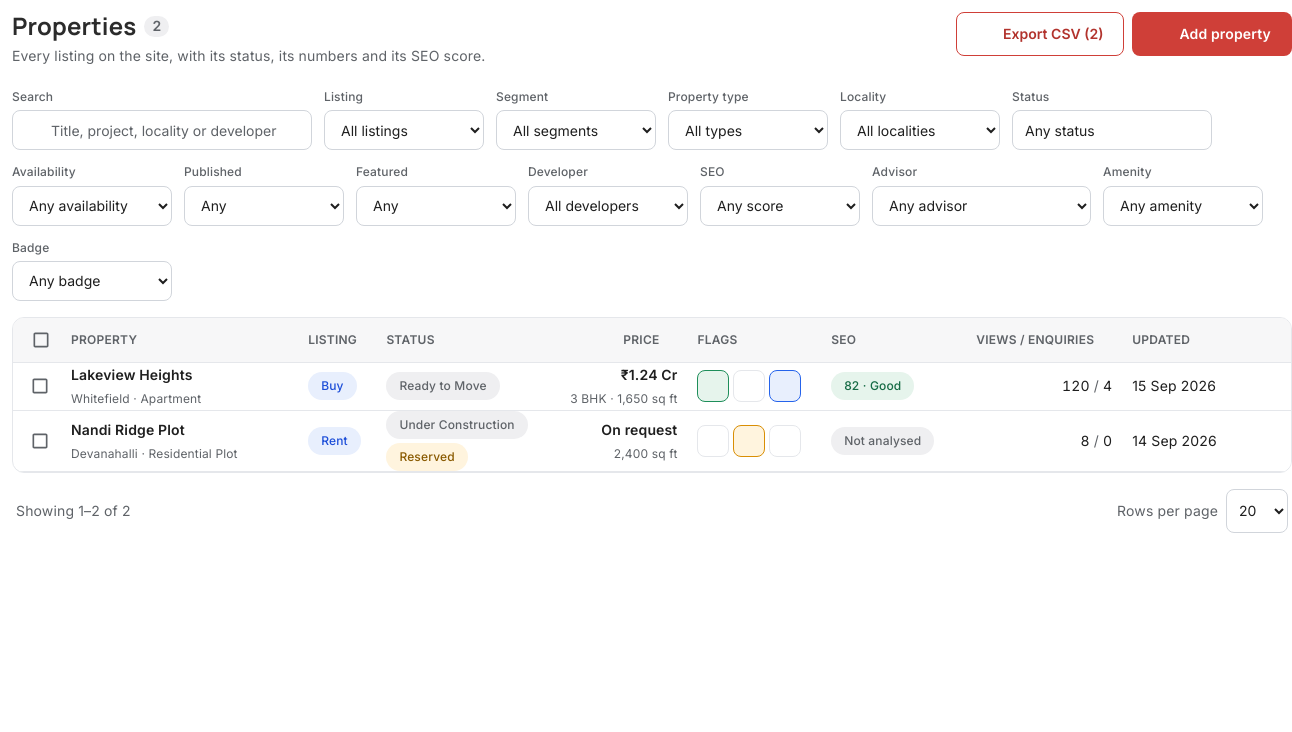
Test: PropertiesListPage › the flag toggles › patch the record they belong to, and keep the row where it is (QA-62)
Check: the link "Lakeview Heights" is shown, box x1=71 y1=366 x2=192 y2=383
Click the button named "Featured — Lakeview Heights".
click(750, 386)  # box x1=734 y1=370 x2=766 y2=402
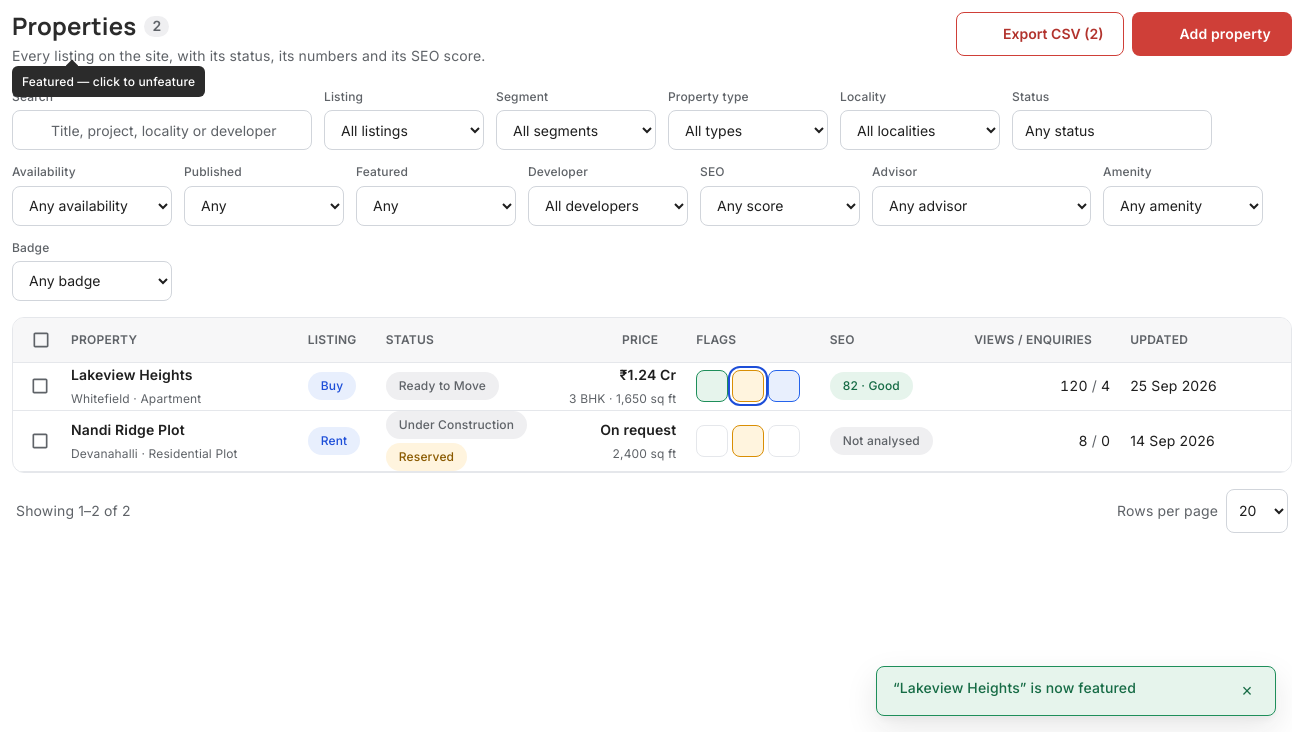
Check: the text "“Lakeview Heights” is now featured" is shown, box x1=893 y1=679 x2=1136 y2=696
Check: the text "25 Sep 2026" is shown, box x1=1130 y1=377 x2=1217 y2=394
